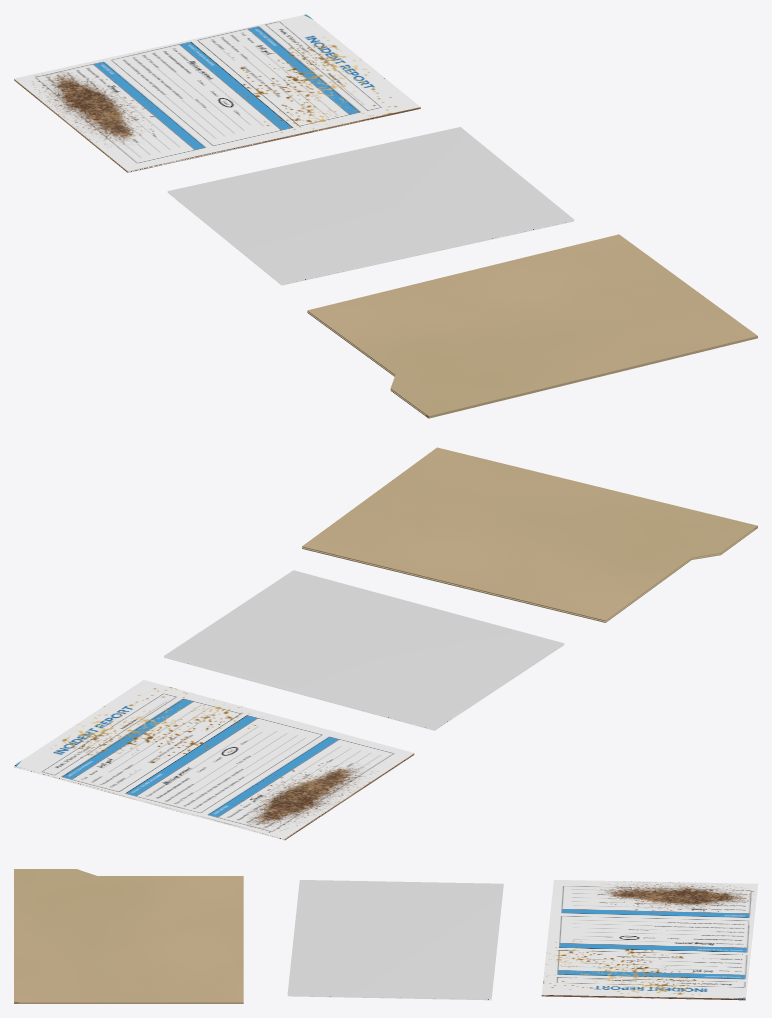
File: Desk Paper.fbx
The picture shows the model from 3 angles, top to bottom: view 1: azimuth 30°, elevation 25°; view 2: azimuth 150°, elevation 25°; view 3: azimuth 270°, elevation 25°; orthographic projection. The views are drawn at different scales.
Parts seen in each view (by area): view 1: Folder1.001, PaperStackSmall.001, PaperStackSmall.002; view 2: Folder1.001, PaperStackSmall.001, PaperStackSmall.002; view 3: Folder1.001, PaperStackSmall.001, PaperStackSmall.002.
Boxes of the visible parts, x1,y1,x2,y2 form: Folder1.001: (307,234,757,418); PaperStackSmall.001: (167,127,574,285); PaperStackSmall.002: (14,14,420,172); Folder1.001: (302,447,757,622); PaperStackSmall.001: (164,570,564,730); PaperStackSmall.002: (14,680,414,840); Folder1.001: (14,869,243,1003); PaperStackSmall.001: (287,880,503,1000); PaperStackSmall.002: (541,880,757,1000).
Bounding box in the file's own units: 40.2 × 0.2772 × 95.2.
